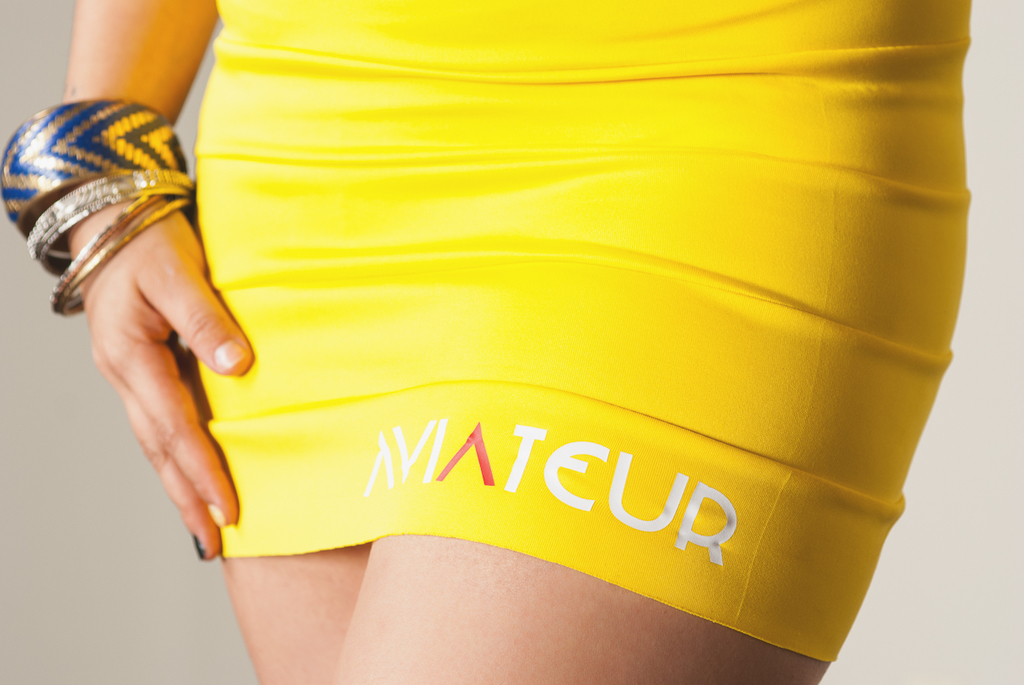Person: (0, 0, 972, 684)
